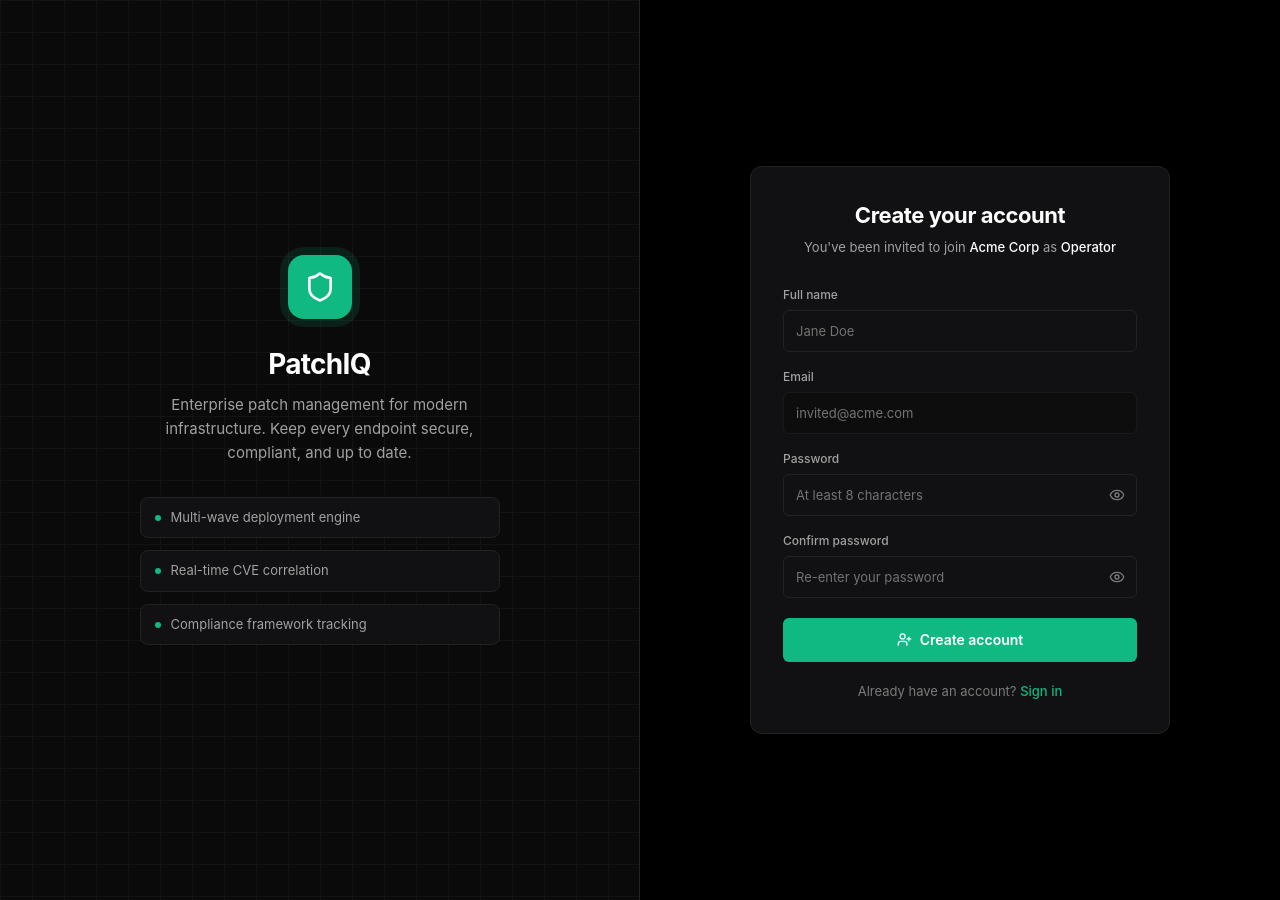
Scenario: RegisterPage › shows validation error for empty name
The width and height of the screenshot is (1280, 900).
Check: the heading "Create your account" is shown, box [855, 202, 1065, 228]
In the password field labelled "Password": (960, 494) [783, 474, 1137, 516], type "Password123"
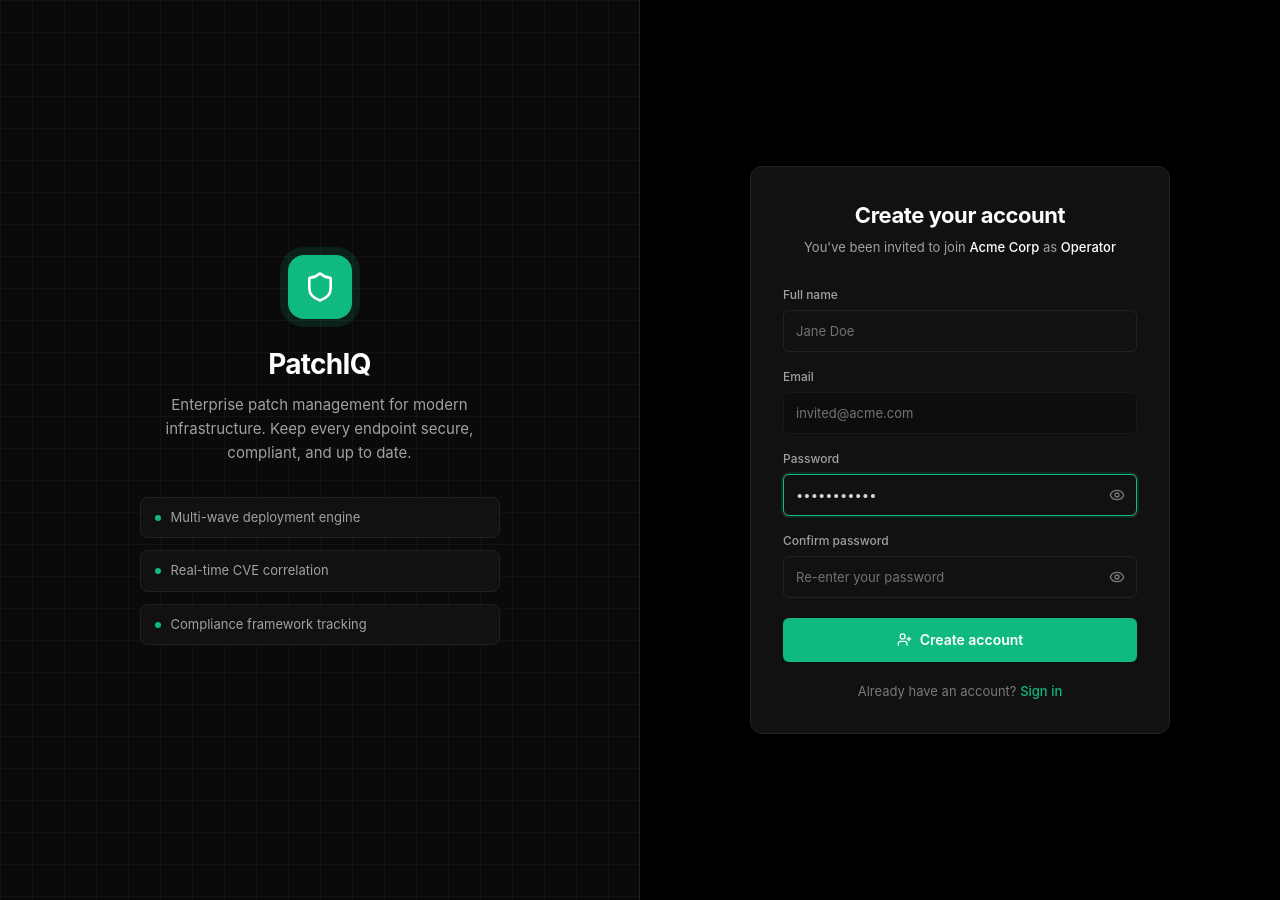
In the password field labelled "Confirm password": (960, 576) [783, 556, 1137, 598], type "Password123"
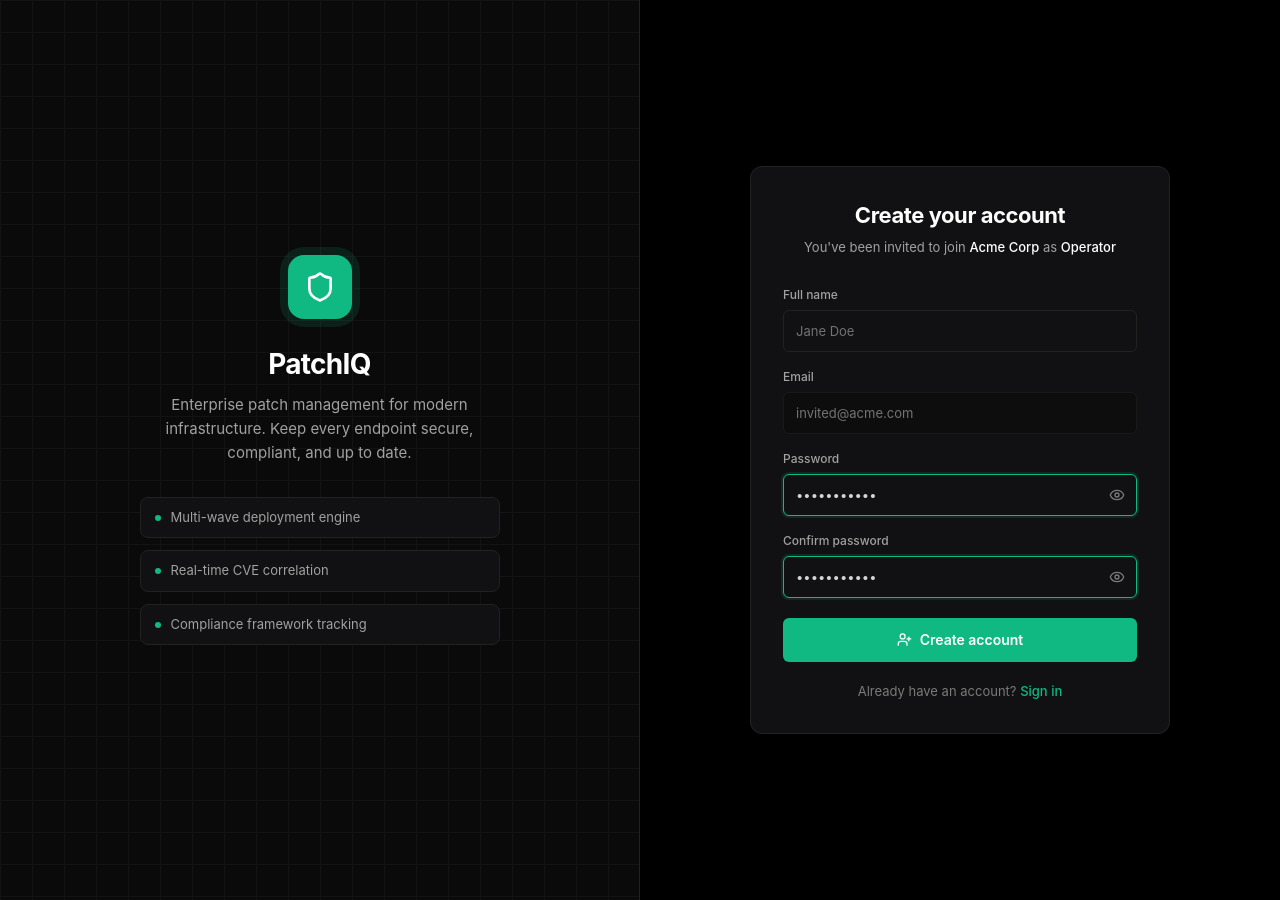
Click the button "Create account": (960, 640) [783, 618, 1137, 662]
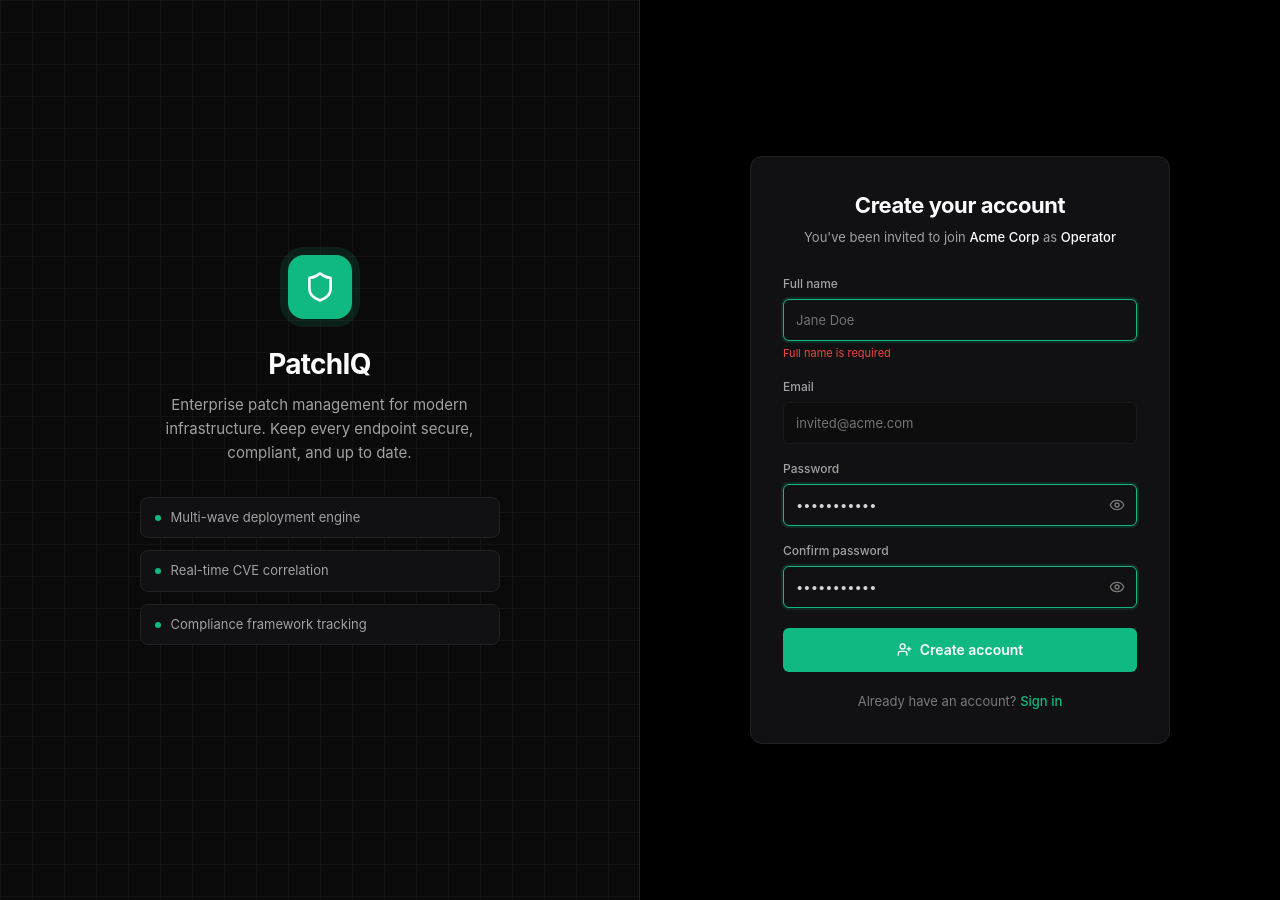
Check: the text "Full name is required" is shown, box [783, 346, 891, 360]
